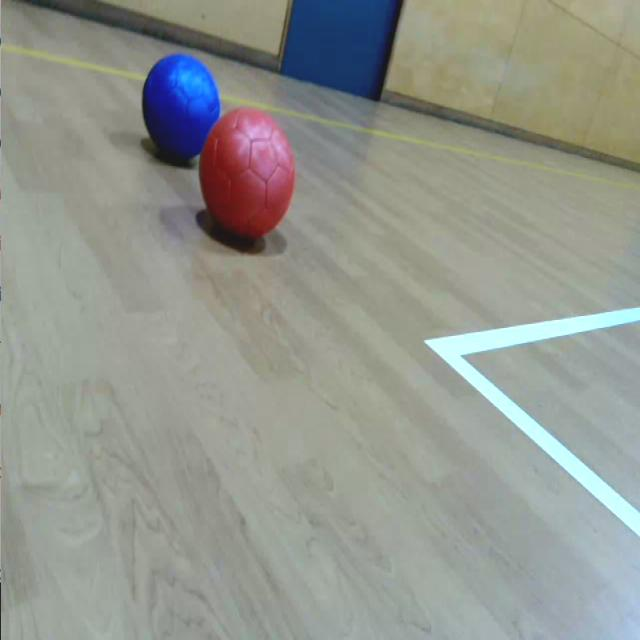blue_ball: (142, 51, 220, 160)
red_ball: (199, 107, 295, 241)
